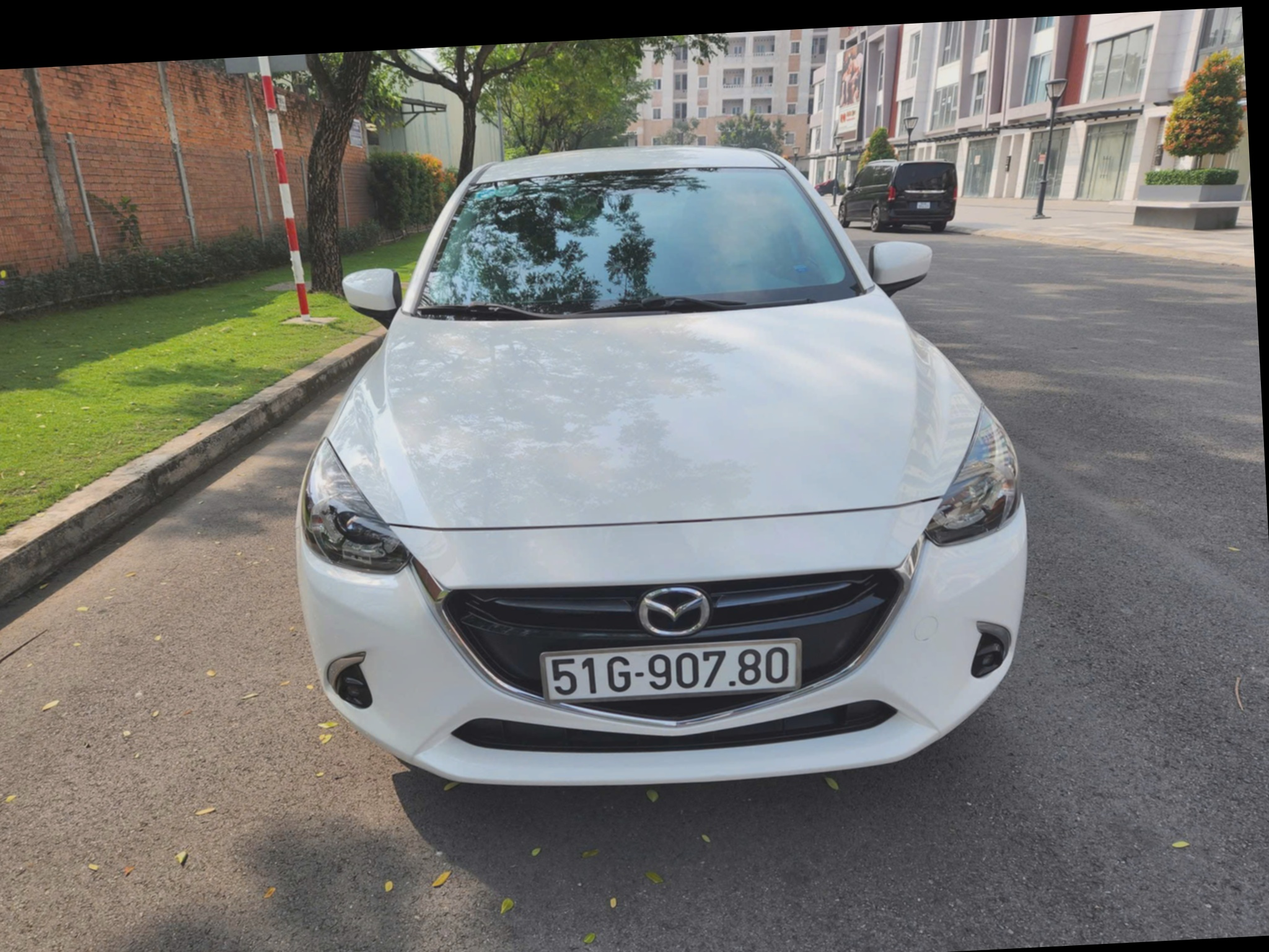Bien-so: (553, 605, 800, 671)
